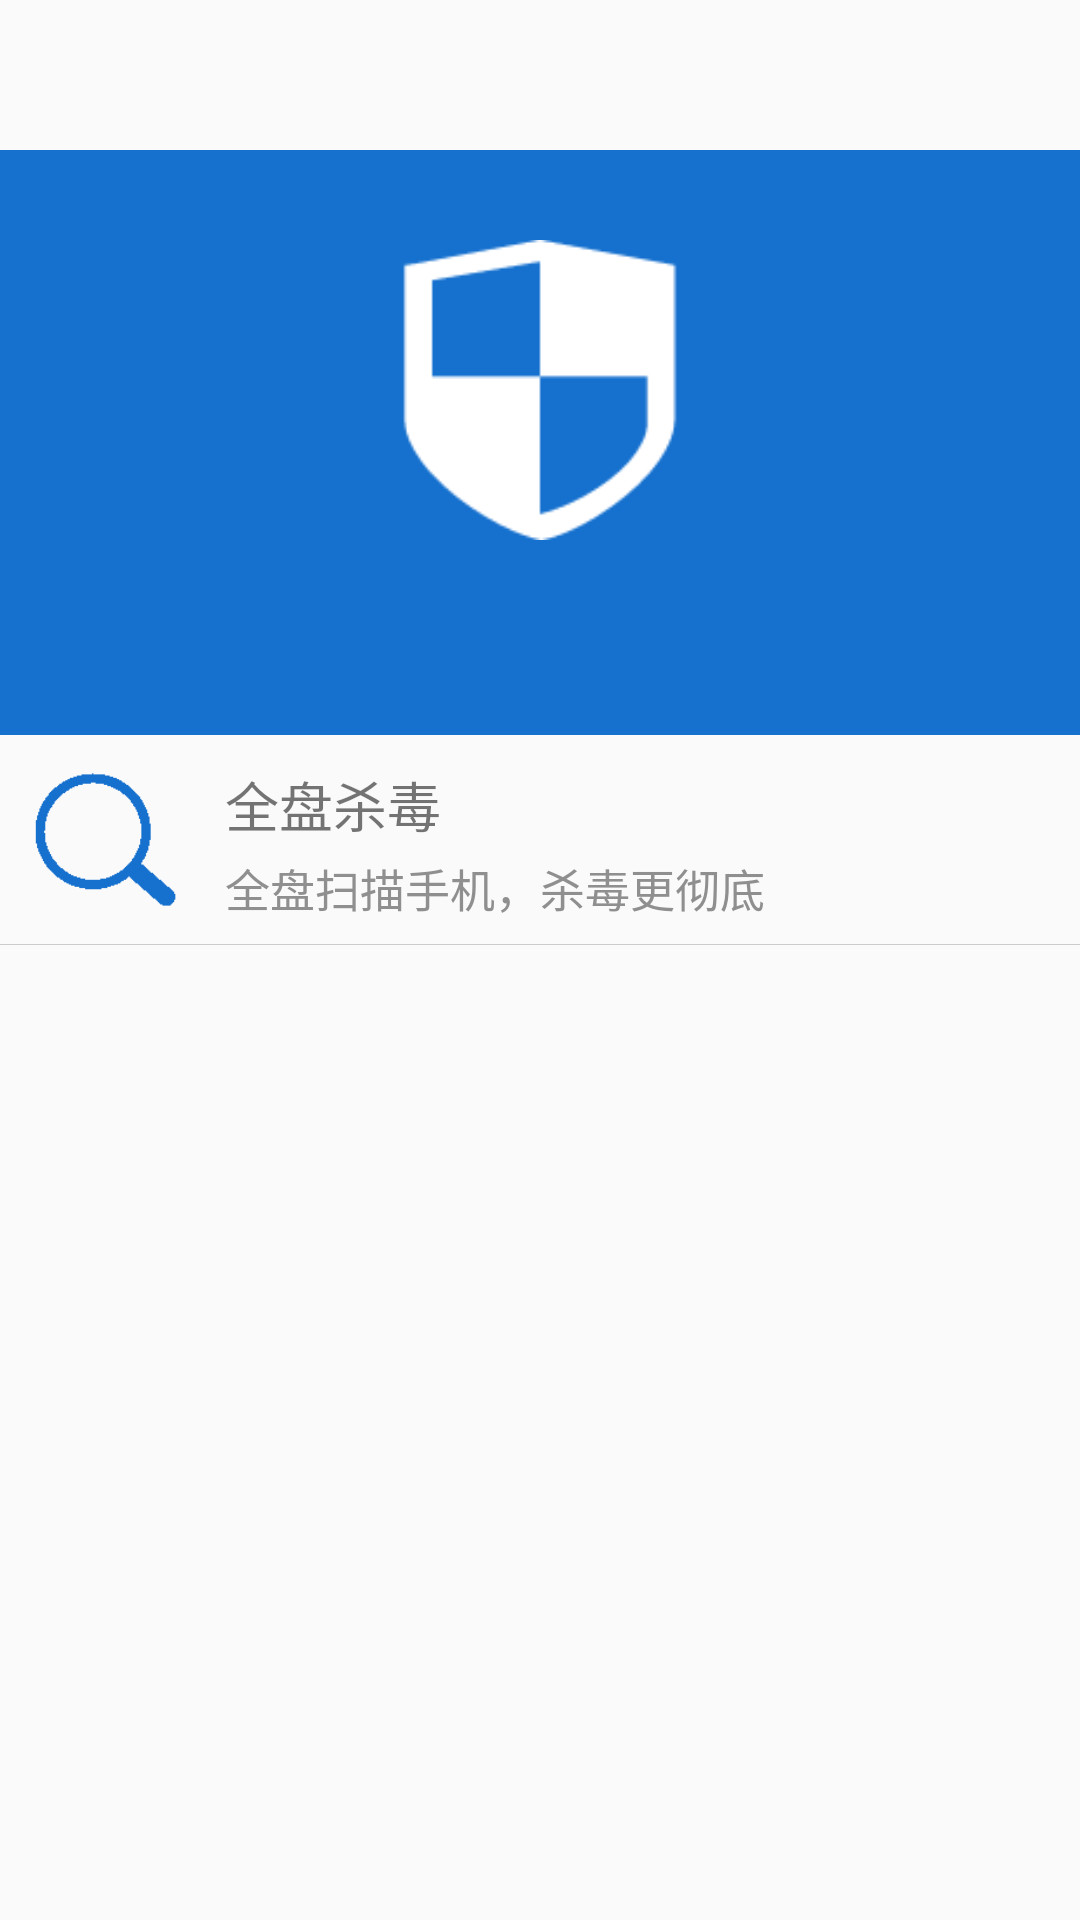

Where to tap for icons on this 1080w x 1920h app screen, as (x,y):
saomiao: (105,839)
virusscan: (540,390)
